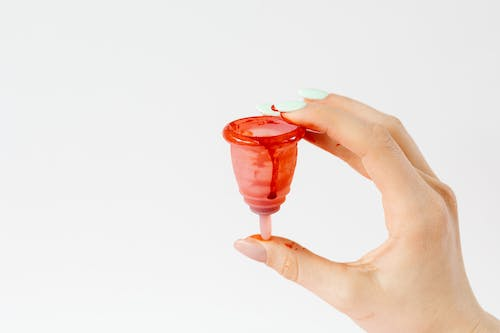blood: (219, 113, 307, 217), (268, 98, 341, 159), (246, 230, 307, 254)
